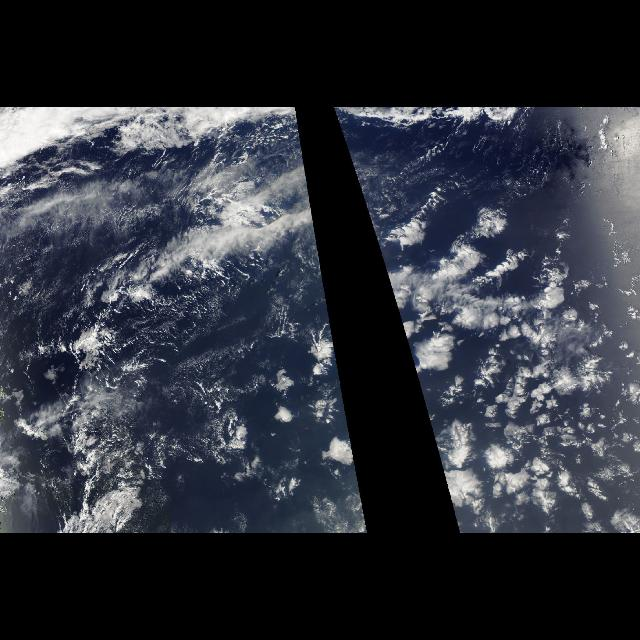Flower: (418, 330, 590, 518)
